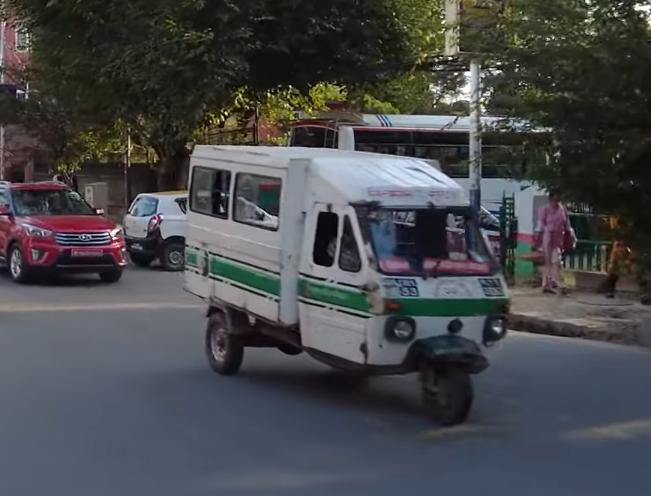car: (0, 176, 131, 290)
taxi: (121, 184, 271, 269)
tempo: (178, 130, 519, 424)
